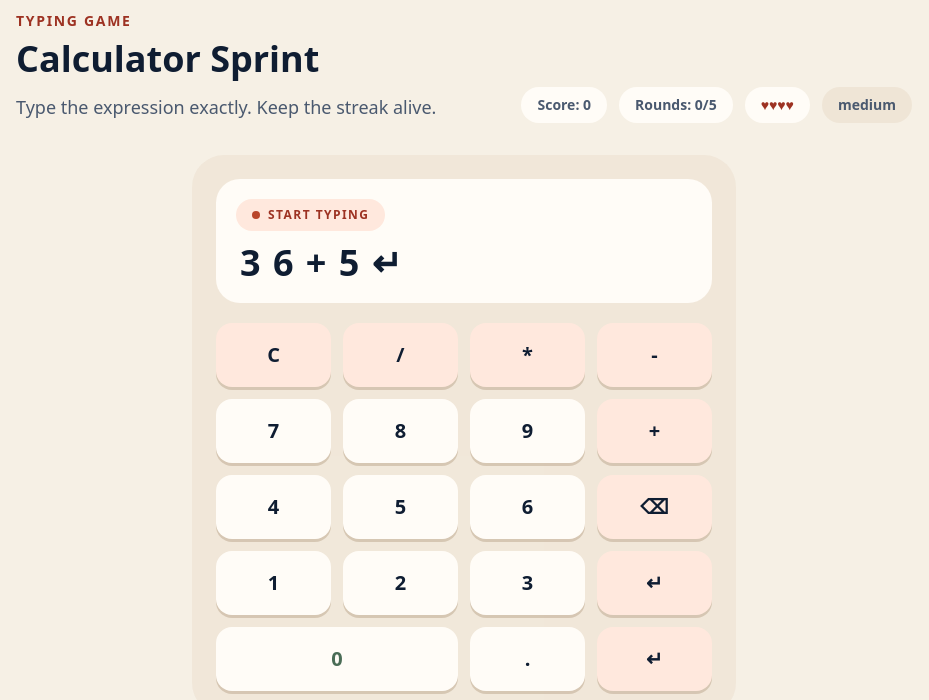
CalculatorSprint › gives the on-screen calculator the same valid completion path
The width and height of the screenshot is (929, 700).
Click the button "3" at (528, 583), box 470,551 -> 585,615
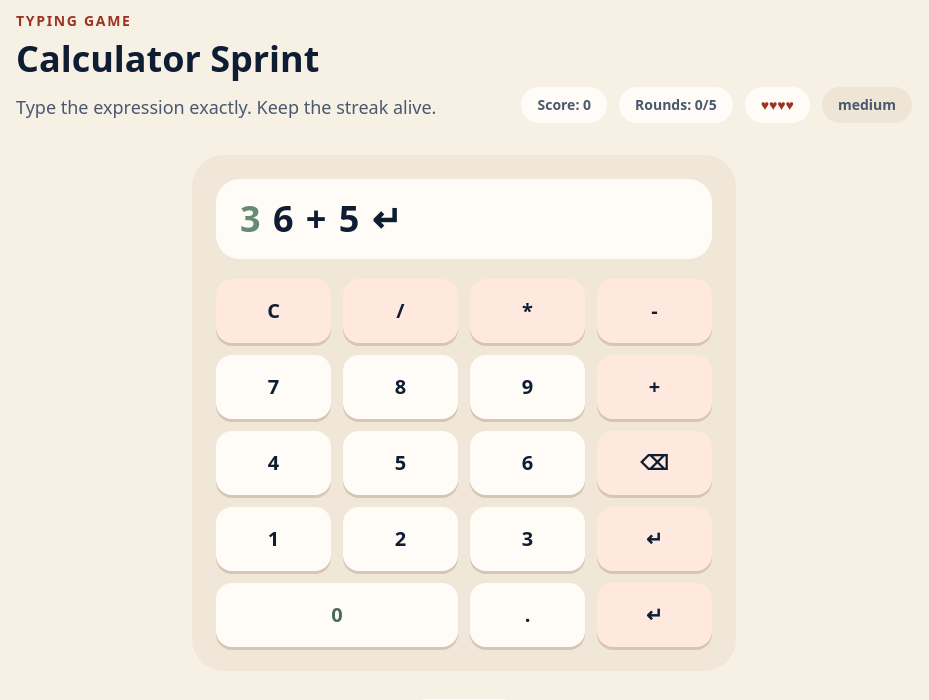
Click the button "6" at (528, 463), box 470,431 -> 585,495
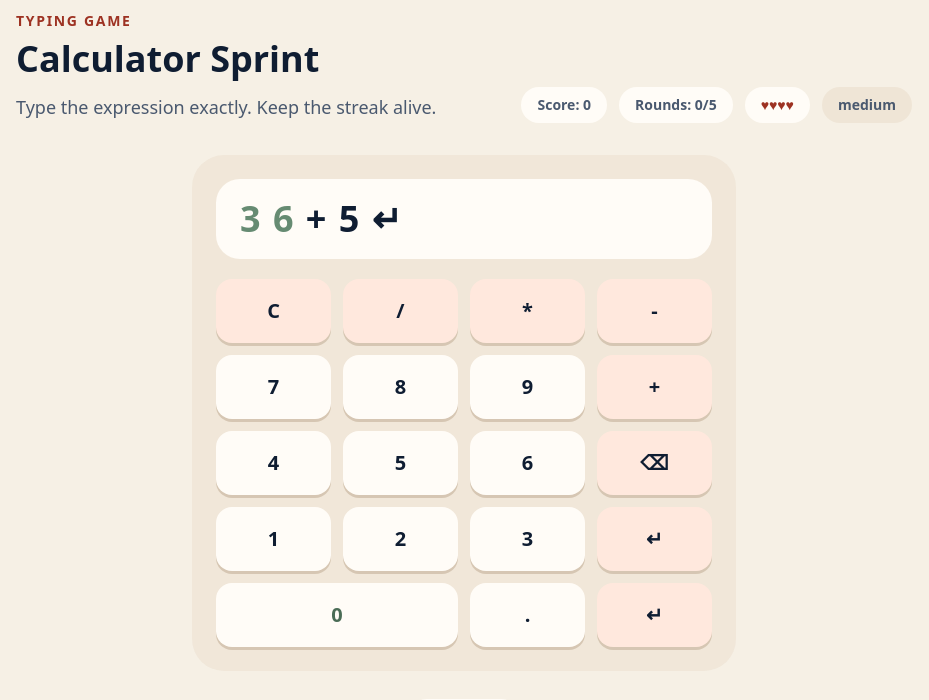
Click the button "+" at (654, 387), box 597,355 -> 712,419
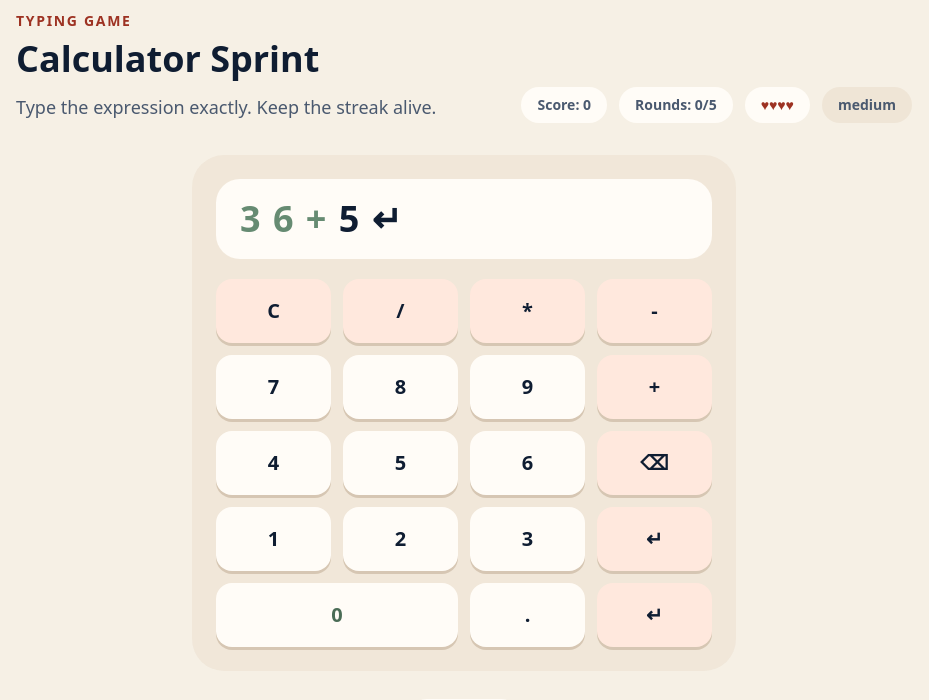
Click the button "5" at (400, 463), box 343,431 -> 458,495
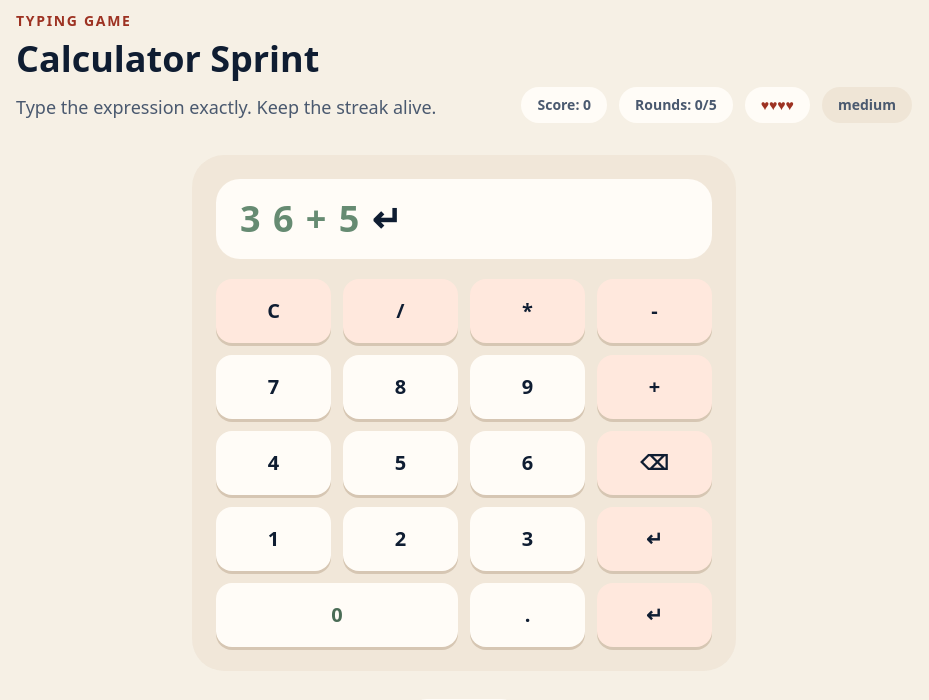
Click the button named "Submit" at (654, 539), box 597,507 -> 712,571
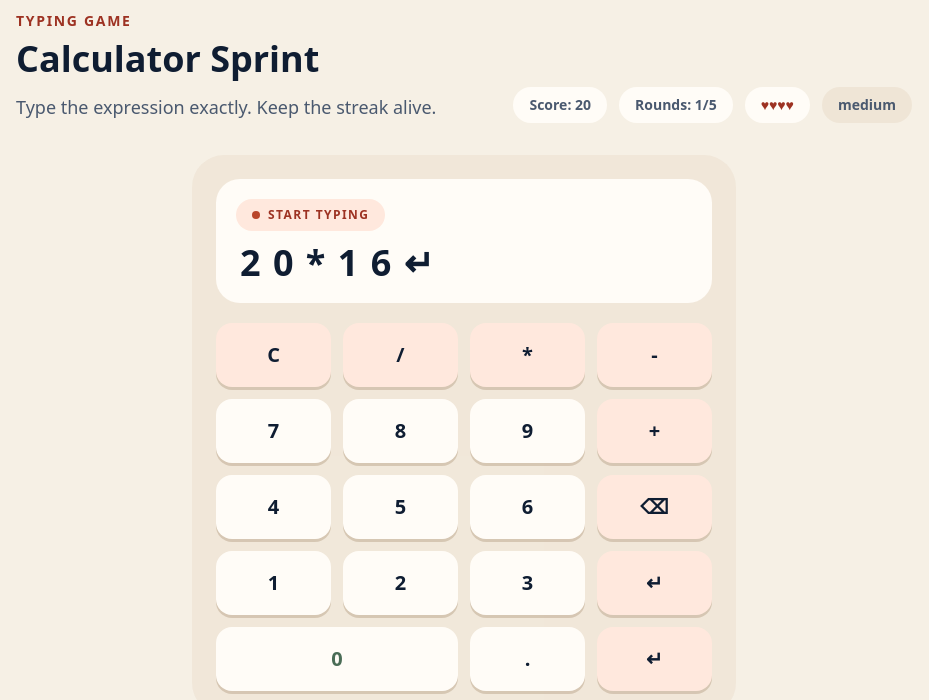
Result: the text "Score: 20" is shown at 514,87 -> 607,123
Result: the text "Rounds: 1/5" is shown at 619,87 -> 733,123
